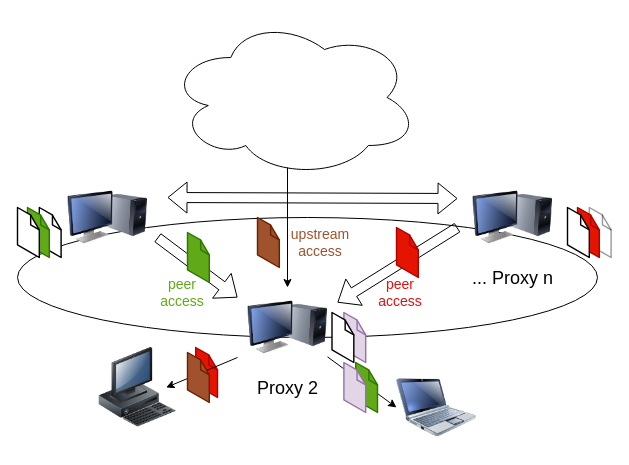
The diagram is 629 pixels wide and 465 high, and some of its shapes have lost their labels. The centre of each missing label's shape, as x and y in pixels:
"Proxy 1" belongs at (x=107, y=217).
"upstream servers" belongs at (x=292, y=97).
